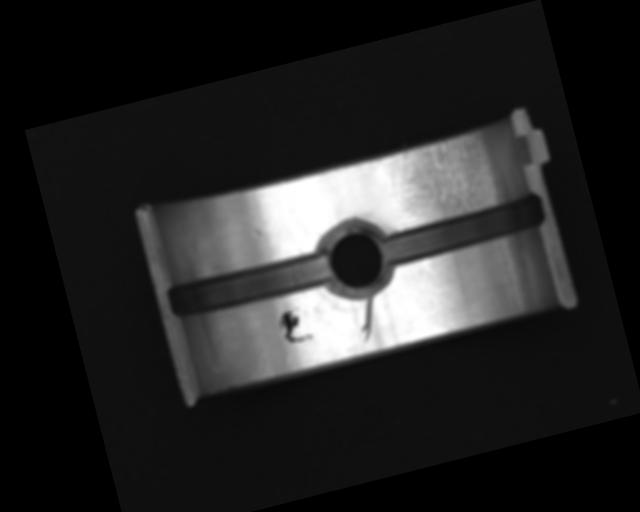blot: (275, 305, 315, 346)
bruise: (250, 227, 264, 240)
gap: (164, 242, 337, 325), (381, 191, 548, 267)
hole: (309, 213, 399, 305)
nick: (351, 294, 384, 345), (417, 256, 436, 278)
scratch: (378, 128, 509, 231)
